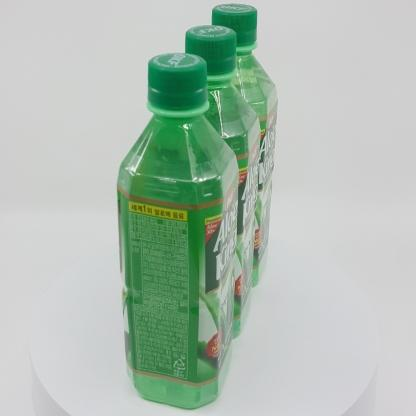------------500ml: (117, 52, 239, 410)
